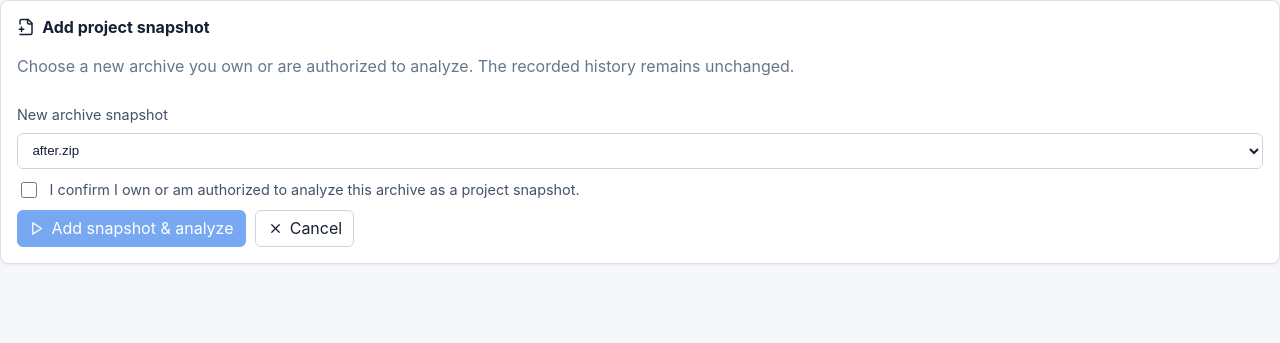
ProjectSnapshotForm › shows the retryable admission message without exposing queue counts
Click the checkbox labelled "I confirm I own or am authorized".
click(29, 190)  # box [21,182,37,198]
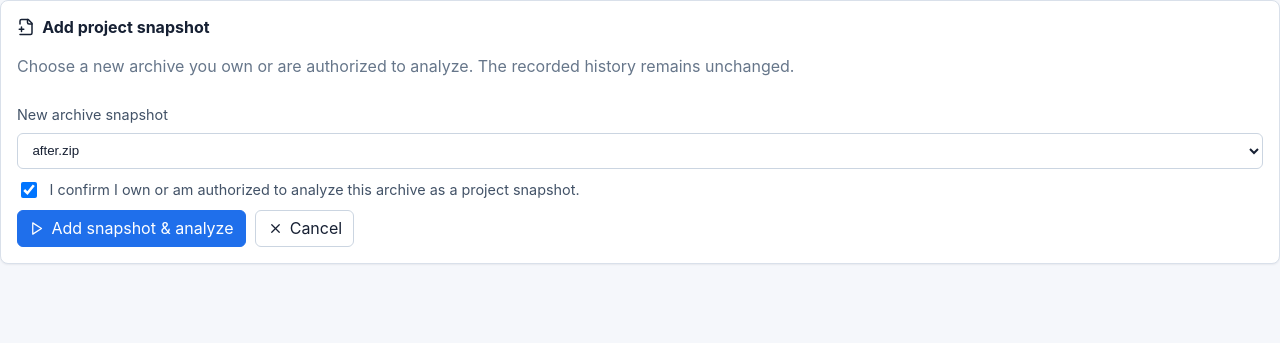
Click the button "Add snapshot & analyze".
click(131, 228)  # box [17,210,246,247]
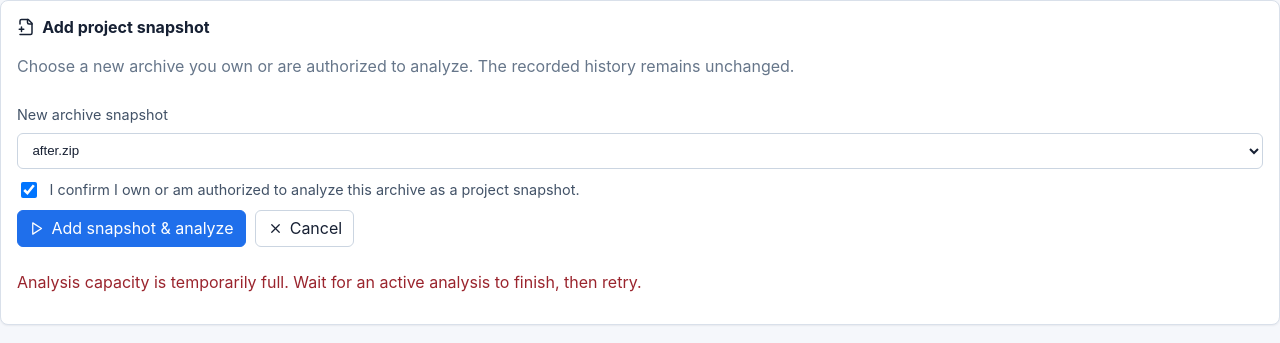
expect the message shows "Analysis capacity is temporarily full. Wait for an active analysis to finish, then retry.": met, box [17,272,642,292]
